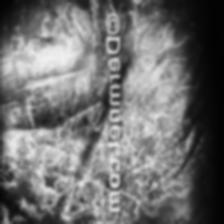Non-Cancerous Skin Condition: (8, 46, 98, 224), (126, 102, 176, 220)
